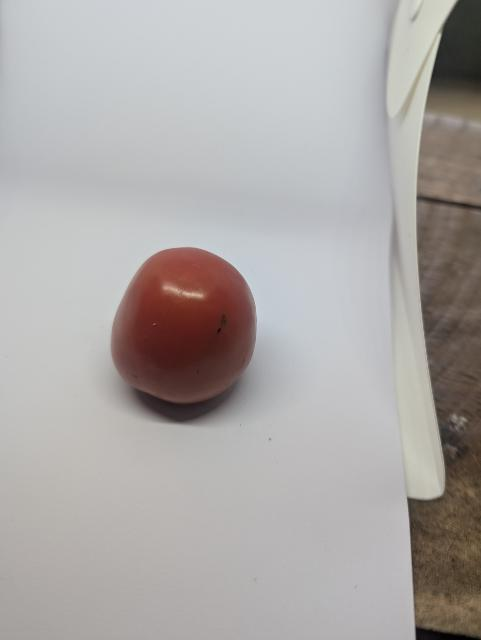red: (100, 240, 279, 423)
